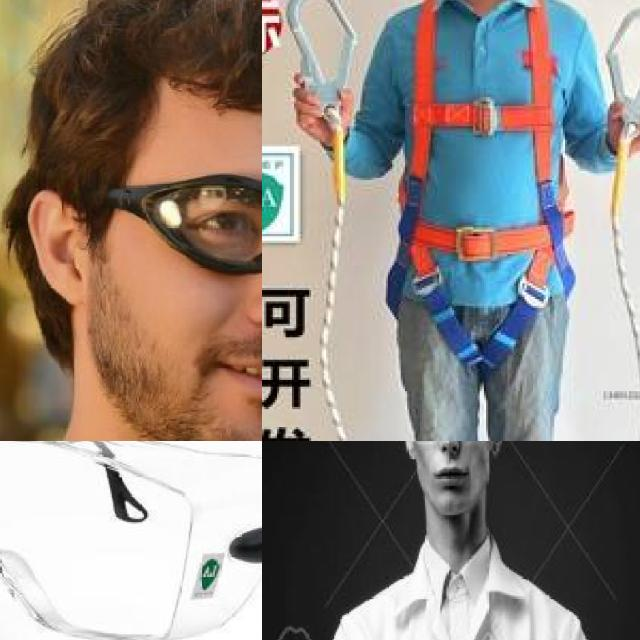Harness: (405, 0, 592, 356)
No_Ear-Protection: (26, 183, 98, 310)
face_nomask: (158, 190, 262, 433), (401, 441, 492, 499)
glasses: (0, 441, 262, 640), (96, 170, 262, 289)
head_nohelmet: (54, 0, 262, 159)
person: (311, 441, 616, 640)
